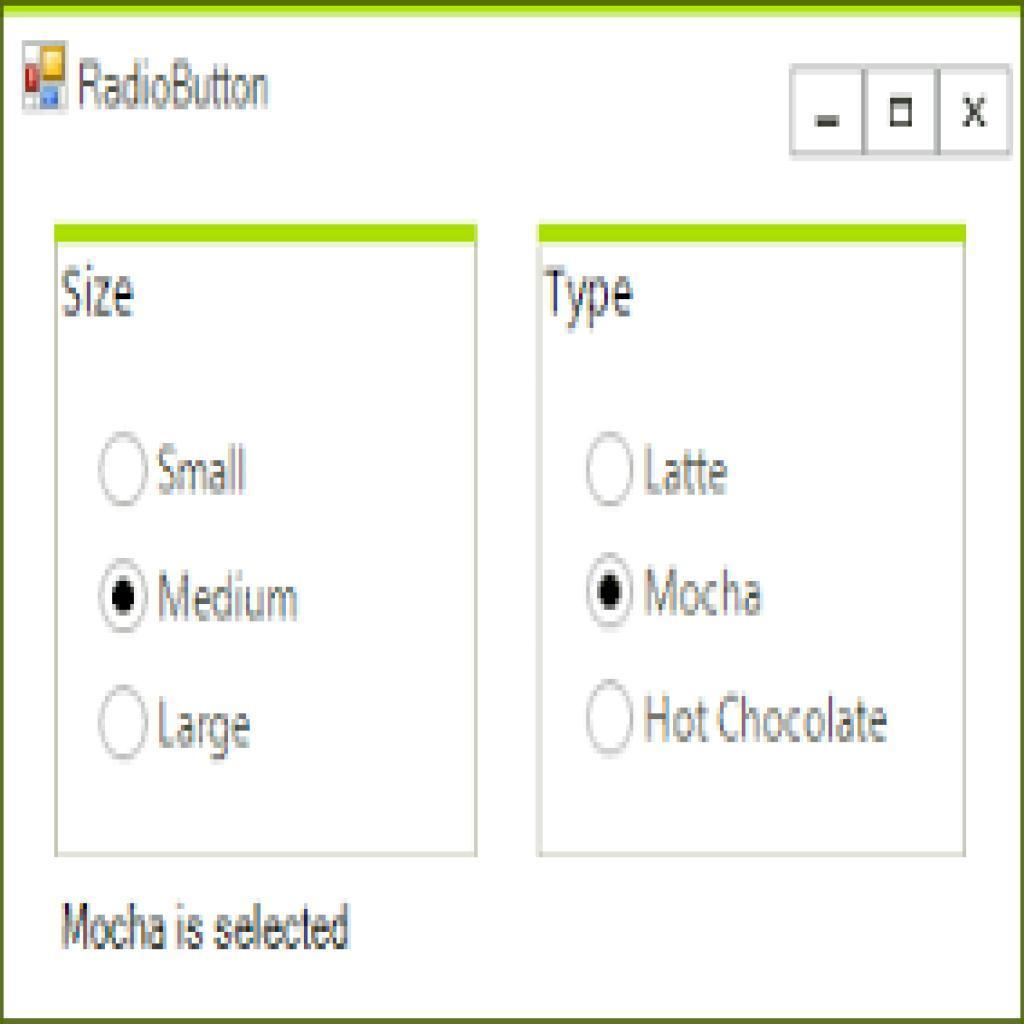radio: (97, 557, 151, 638), (584, 552, 637, 634), (99, 432, 151, 509), (584, 430, 635, 508), (587, 677, 633, 759), (101, 686, 147, 767)
